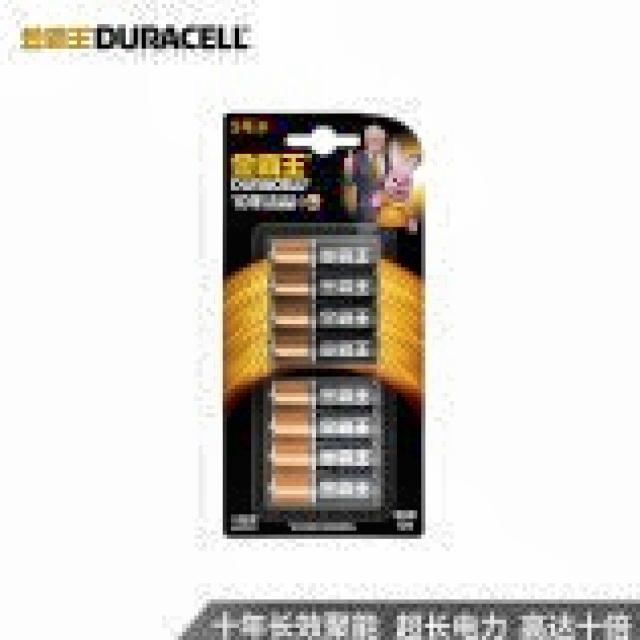Non-Valuable Waste - Batteries: (224, 114, 424, 536)
